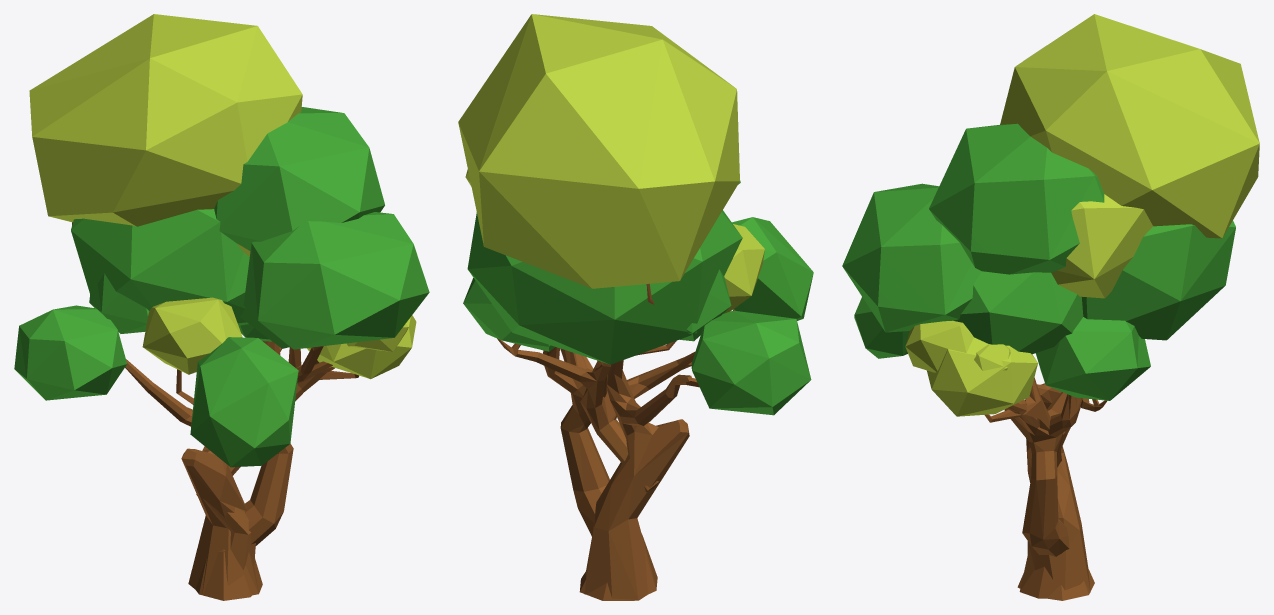
The model's file is Lowpoly_tree_set.fbx.
3 views of the same model, side by side, from view 1: azimuth 30°, elevation 25°; view 2: azimuth 150°, elevation 25°; view 3: azimuth 270°, elevation 25° (orthographic). The views are drawn at different scales.
Visible parts, largest first — view 1: Lowpoly_Tree_15, Lowpoly_Tree_02, Lowpoly_Tree_01; view 2: Lowpoly_Tree_15, Lowpoly_Tree_02, Lowpoly_Tree_01; view 3: Lowpoly_Tree_15, Lowpoly_Tree_02, Lowpoly_Tree_01.
Boxes of the visible parts, bbox=[...] form: Lowpoly_Tree_15: bbox=[14, 14, 429, 595]; Lowpoly_Tree_02: bbox=[71, 209, 416, 569]; Lowpoly_Tree_01: bbox=[89, 244, 334, 600]; Lowpoly_Tree_15: bbox=[458, 14, 811, 600]; Lowpoly_Tree_02: bbox=[463, 210, 813, 492]; Lowpoly_Tree_01: bbox=[465, 169, 731, 600]; Lowpoly_Tree_15: bbox=[842, 14, 1259, 598]; Lowpoly_Tree_02: bbox=[854, 221, 1235, 579]; Lowpoly_Tree_01: bbox=[974, 194, 1153, 600].
Size of the model in its own units: 127 by 192 by 134.
